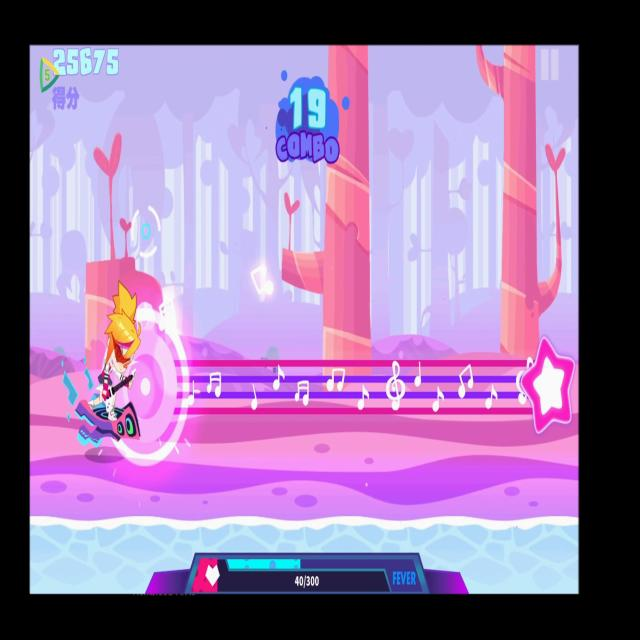Sustained - Star: (519, 330, 578, 438)
